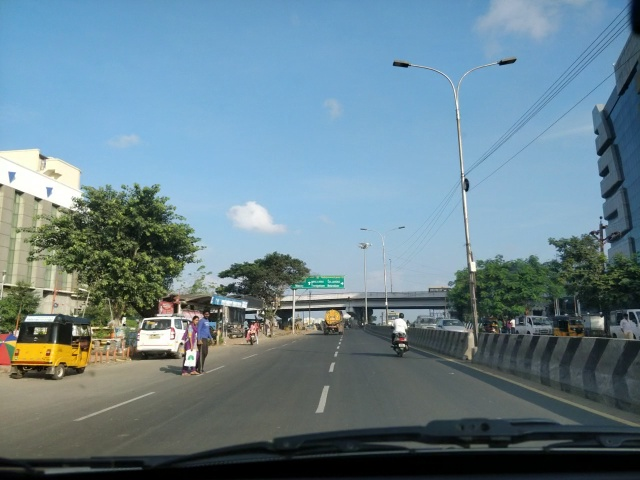auto: (11, 315, 96, 374), (612, 312, 639, 340), (556, 318, 585, 341), (512, 317, 551, 334)
car: (140, 317, 185, 358), (438, 317, 466, 330), (416, 315, 439, 327)
motorbike: (390, 318, 413, 358), (247, 323, 261, 346)
person: (186, 309, 201, 380), (199, 309, 215, 373)
truck: (323, 312, 345, 337)
